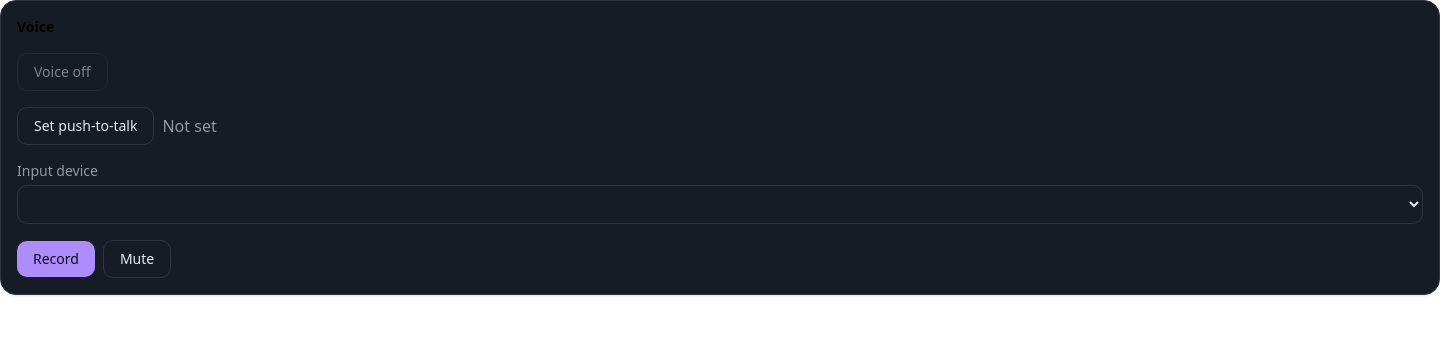
Test case: AudioPanel (TK-224 AC2: mute + device select) › TK-276 AC2: defers to a push-to-talk hold that already owns the shared capture latch, with the Stop-state visible truth
Expected: the dropdown labelled "Input device" is shown, [17,185,1423,224]
Click the button "Record". click: (56, 259)
box: [17,241,95,277]
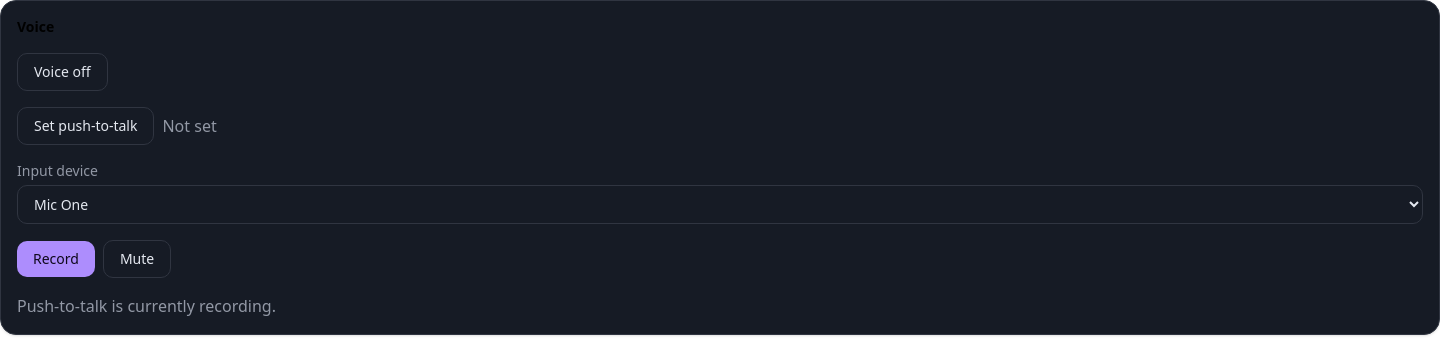
Now the text "Push-to-talk is currently recording." is shown, box [17,295,276,317]
